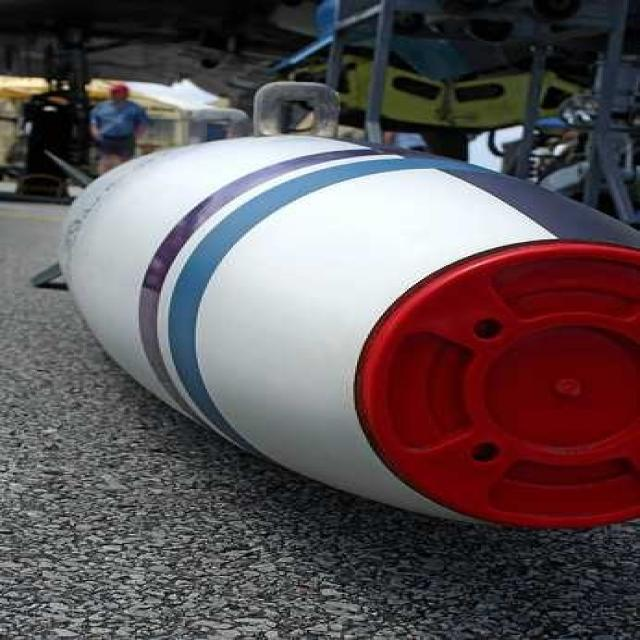missile: (32, 113, 639, 522)
